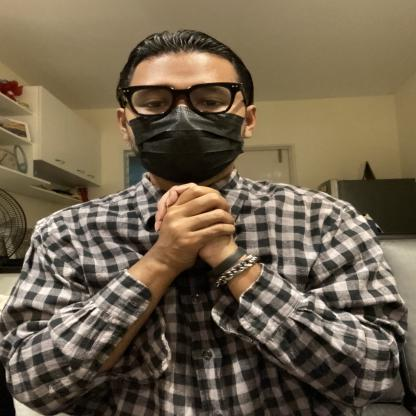Grieve: (60, 175, 344, 290)
